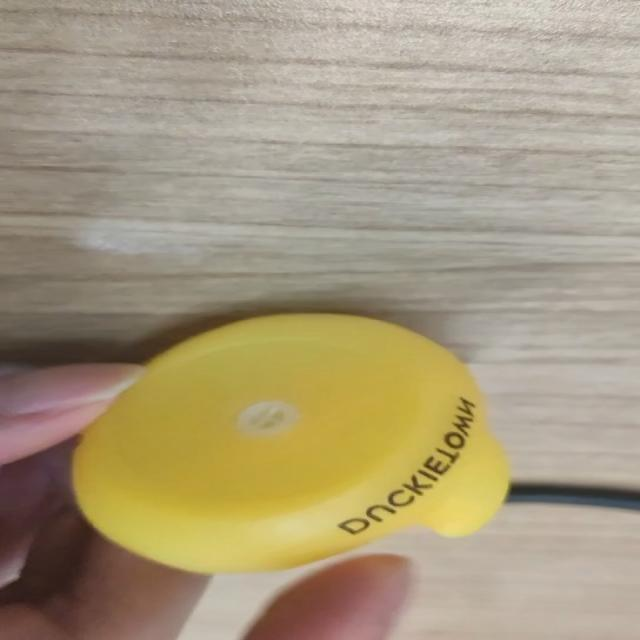rubber-duck: (72, 313, 507, 571)
